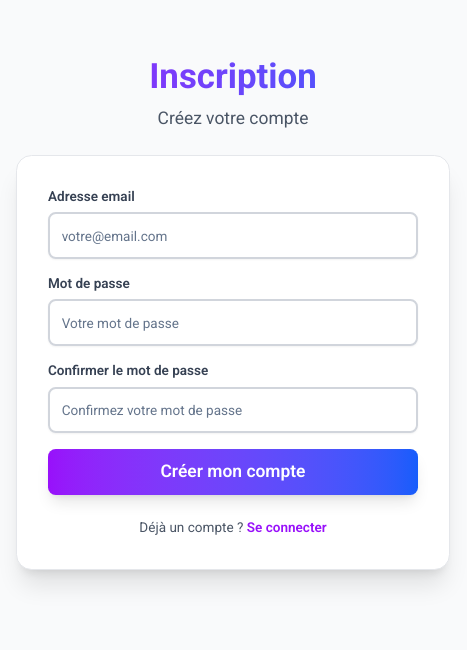
Test: inscription page › maps signup-disabled error to specific serverError
The width and height of the screenshot is (467, 650).
Type "foo@bar.com" into the field labelled "Adresse email".
click(233, 236); type("foo@bar.com")  # box left=48, top=212, right=418, bottom=259
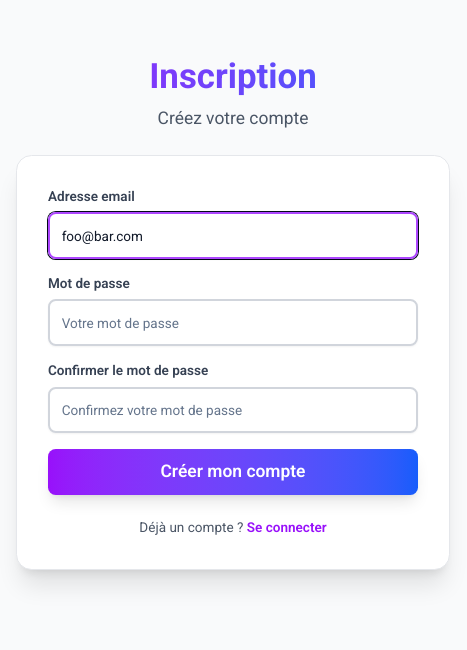
Type "goodpass1" into the password field labelled "Mot de passe".
click(233, 323); type("goodpass1")  # box left=48, top=300, right=418, bottom=346
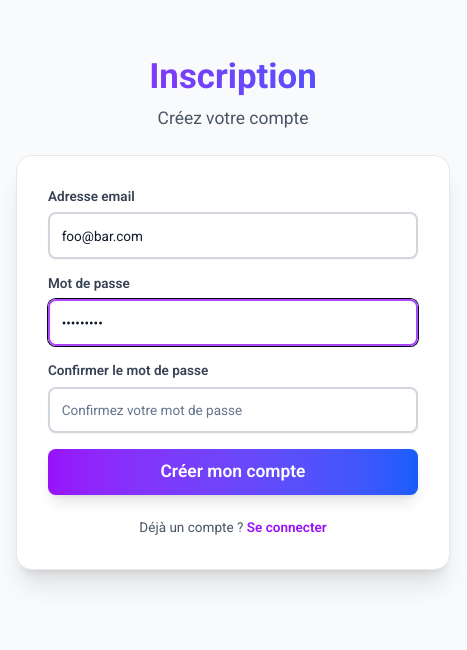
Type "goodpass1" into the password field labelled "Confirmer le mot de passe".
click(233, 410); type("goodpass1")  # box left=48, top=387, right=418, bottom=433
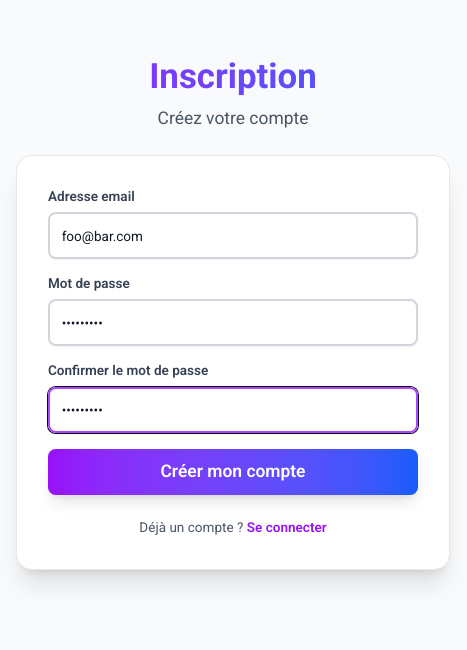
Click the button "Créer mon compte".
click(233, 472)  # box left=48, top=449, right=418, bottom=495
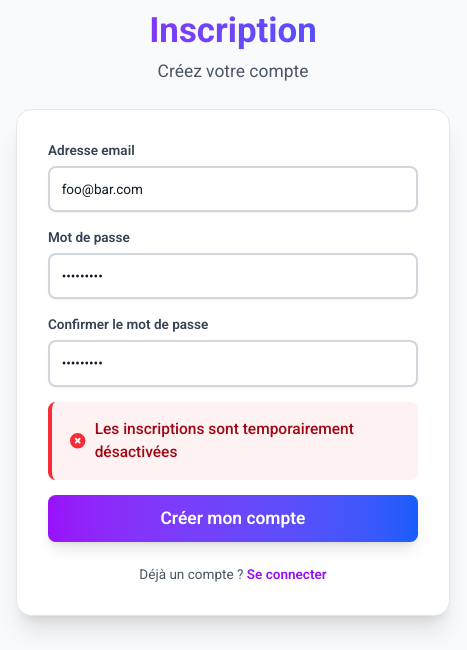
Expected: the text "Les inscriptions sont temporairement désactivées" is shown, left=95, top=420, right=354, bottom=461
